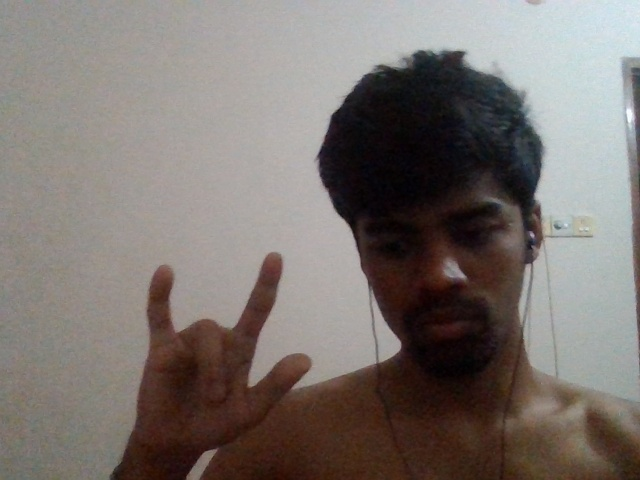ILoveYou: (120, 242, 325, 462)
